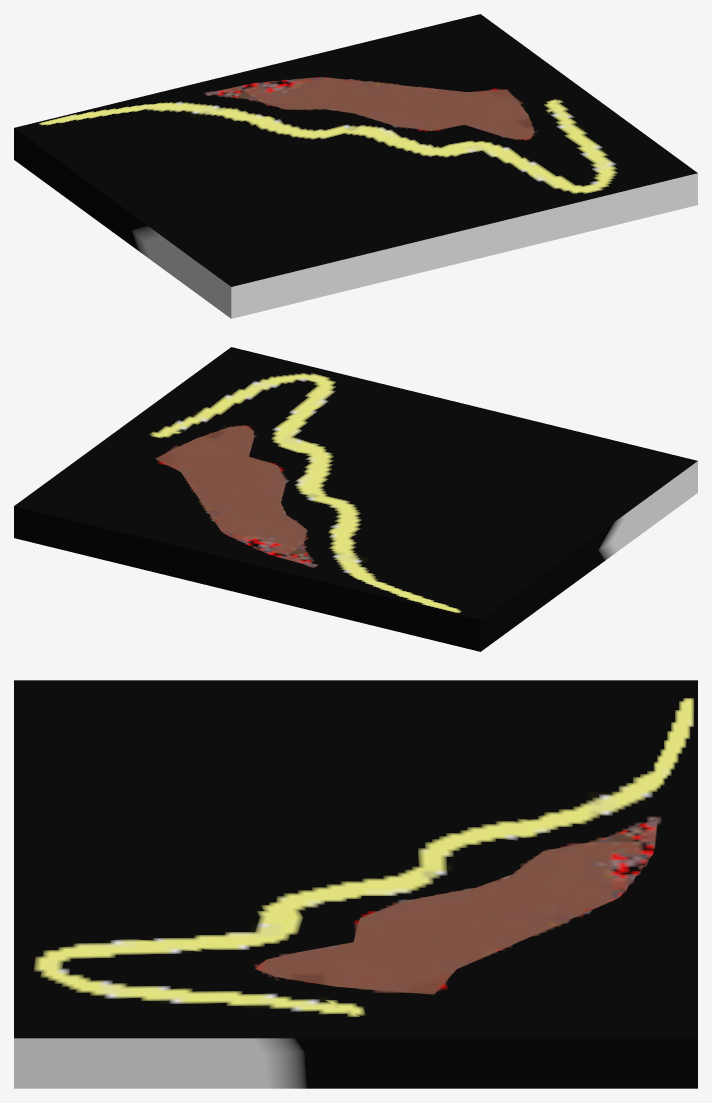
Rendered from CharSkyKid_Prop_MoonlightMural_Mountain02.glb.
3 views of the same model, one above another, from view 1: azimuth 30°, elevation 25°; view 2: azimuth 150°, elevation 25°; view 3: azimuth 270°, elevation 25° (orthographic). The views are drawn at different scales.
Visible parts, largest first — view 1: CharSkyKid_Prop_MoonlightMural_Mountain02; view 2: CharSkyKid_Prop_MoonlightMural_Mountain02; view 3: CharSkyKid_Prop_MoonlightMural_Mountain02.
Part boxes in pixels (x1,y1,x2,y2): CharSkyKid_Prop_MoonlightMural_Mountain02: (14, 14, 697, 318); CharSkyKid_Prop_MoonlightMural_Mountain02: (14, 347, 697, 651); CharSkyKid_Prop_MoonlightMural_Mountain02: (14, 680, 697, 1088).
Bounding box in the file's own units: 1 × 0.0654 × 0.8069.
Materials: 1 (1 with a texture image).
